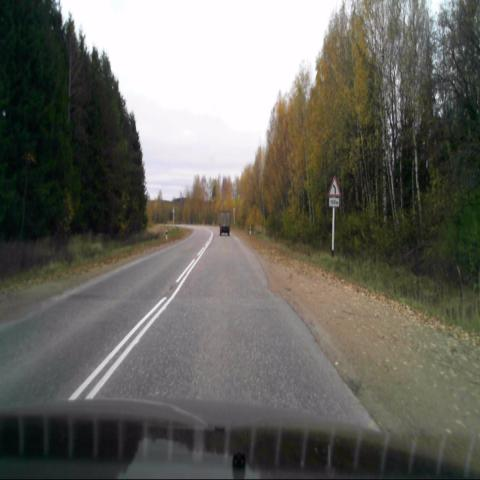1_11_1: (329, 175, 340, 196)
